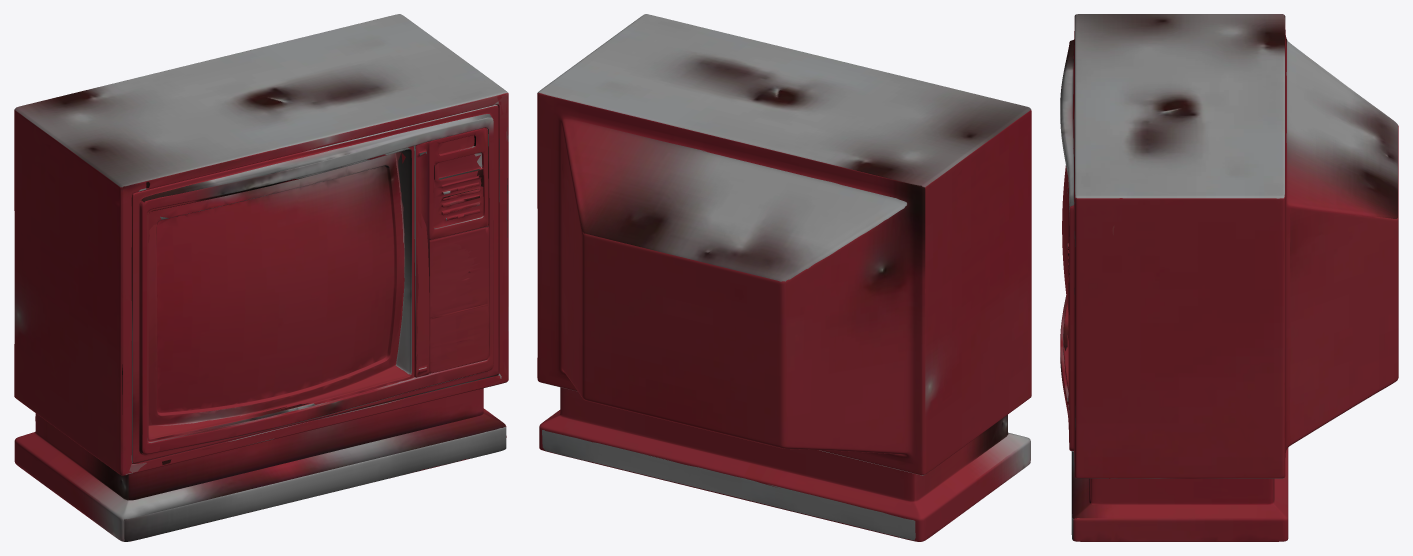
File: TV - poltergeist.glb
3 renders of one model, left to right at view 1: azimuth 30°, elevation 25°; view 2: azimuth 150°, elevation 25°; view 3: azimuth 270°, elevation 25°, orthographic. The views are drawn at different scales.
Parts seen in each view (by area): view 1: node_0; view 2: node_0; view 3: node_0.
Boxes of the visible parts, box(x1,y1,x2,y2) form: node_0: box(14, 14, 508, 541); node_0: box(537, 14, 1031, 541); node_0: box(1060, 14, 1398, 541).
Bounding box in the file's own units: 0.8011 × 0.7018 × 0.6217.
Materials: 1 (1 with a texture image).
